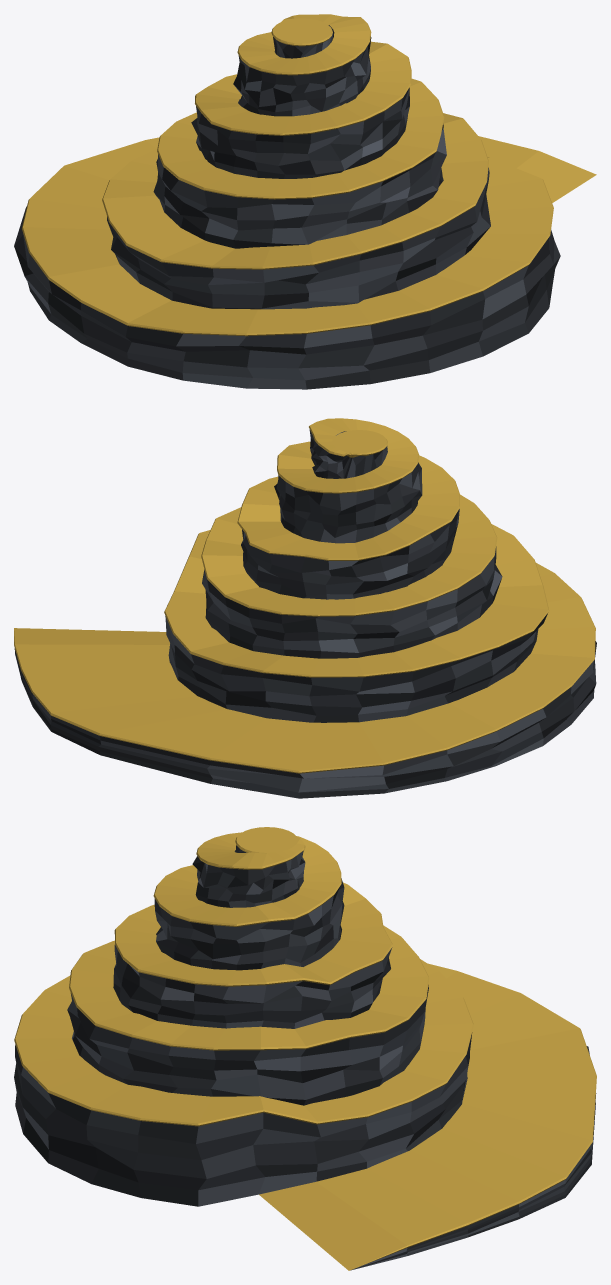
Rendered from Mountain.var2.fbx.
3 renders of one model, top to bottom at view 1: azimuth 30°, elevation 25°; view 2: azimuth 150°, elevation 25°; view 3: azimuth 270°, elevation 25°, orthographic. The views are drawn at different scales.
Parts seen in each view (by area): view 1: Spiral.014; view 2: Spiral.014; view 3: Spiral.014.
Boxes of the visible parts, left/top/right/bottom form: Spiral.014: left=14, top=14, right=596, bottom=389; Spiral.014: left=14, top=418, right=596, bottom=798; Spiral.014: left=14, top=827, right=596, bottom=1270.
Size of the model in its own units: 1008 by 440 by 878.
